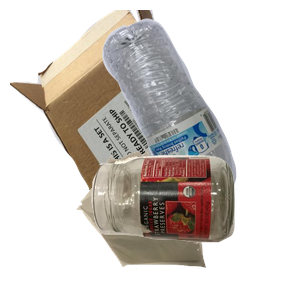cardboard: (10, 10, 227, 190)
glass: (89, 153, 300, 300)
plastic: (100, 16, 300, 196)
trash: (74, 148, 273, 300)
